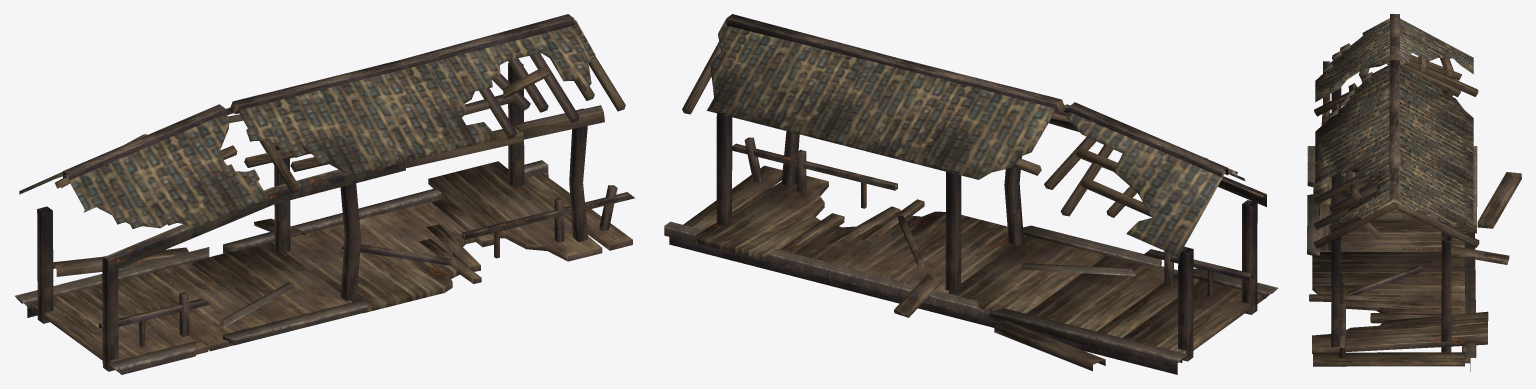
File: FeiXuAll1_Fangzi2.FBX
3 views of the same model, side by side, from view 1: azimuth 30°, elevation 25°; view 2: azimuth 150°, elevation 25°; view 3: azimuth 270°, elevation 25° (orthographic). The views are drawn at different scales.
Parts seen in each view (by area): view 1: FeiXuAll1_Fangzi2; view 2: FeiXuAll1_Fangzi2; view 3: FeiXuAll1_Fangzi2.
Boxes of the visible parts, <box> form: FeiXuAll1_Fangzi2: <box>15,14,635,374</box>; FeiXuAll1_Fangzi2: <box>664,14,1278,374</box>; FeiXuAll1_Fangzi2: <box>1307,14,1521,371</box>.
Size of the model in its own units: 1514 by 567 by 615.
